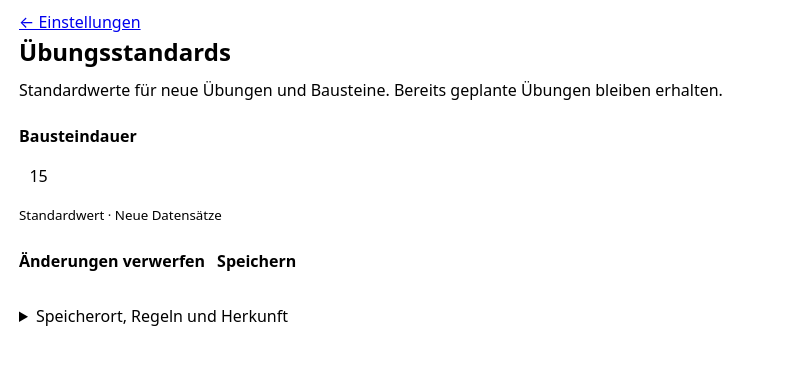
Test case: Configuration editor › preserves edits and reports an API failure without claiming success
The width and height of the screenshot is (811, 367).
Replace the text in the number field labelled "Bausteindauer" with "30" at (405, 176), box [19,154,791,199]
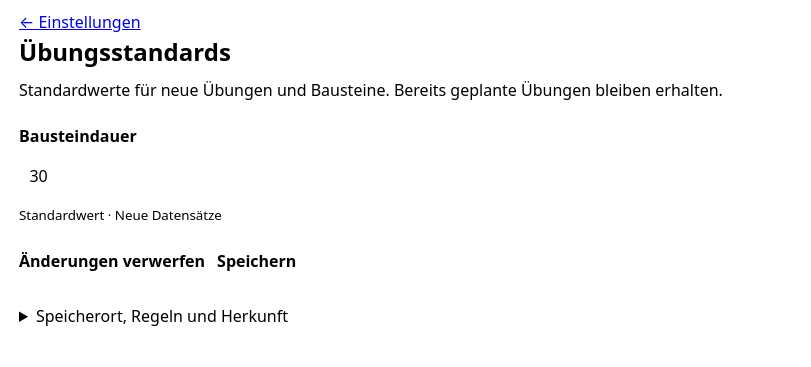
Submit the form, box [19,124,791,348]
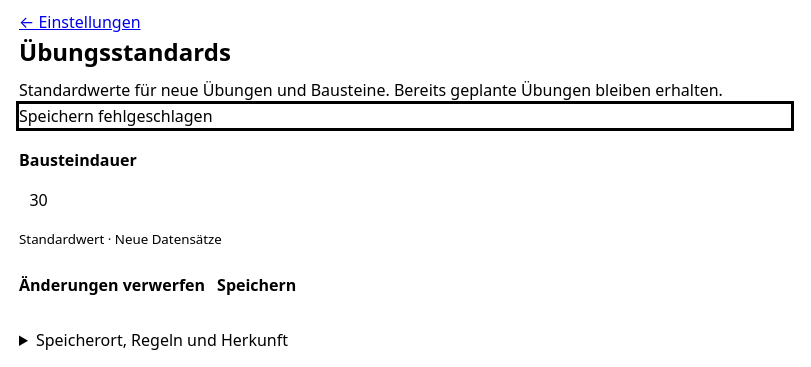
Result: the text "Speichern fehlgeschlagen" is shown at [19,104,212,128]
